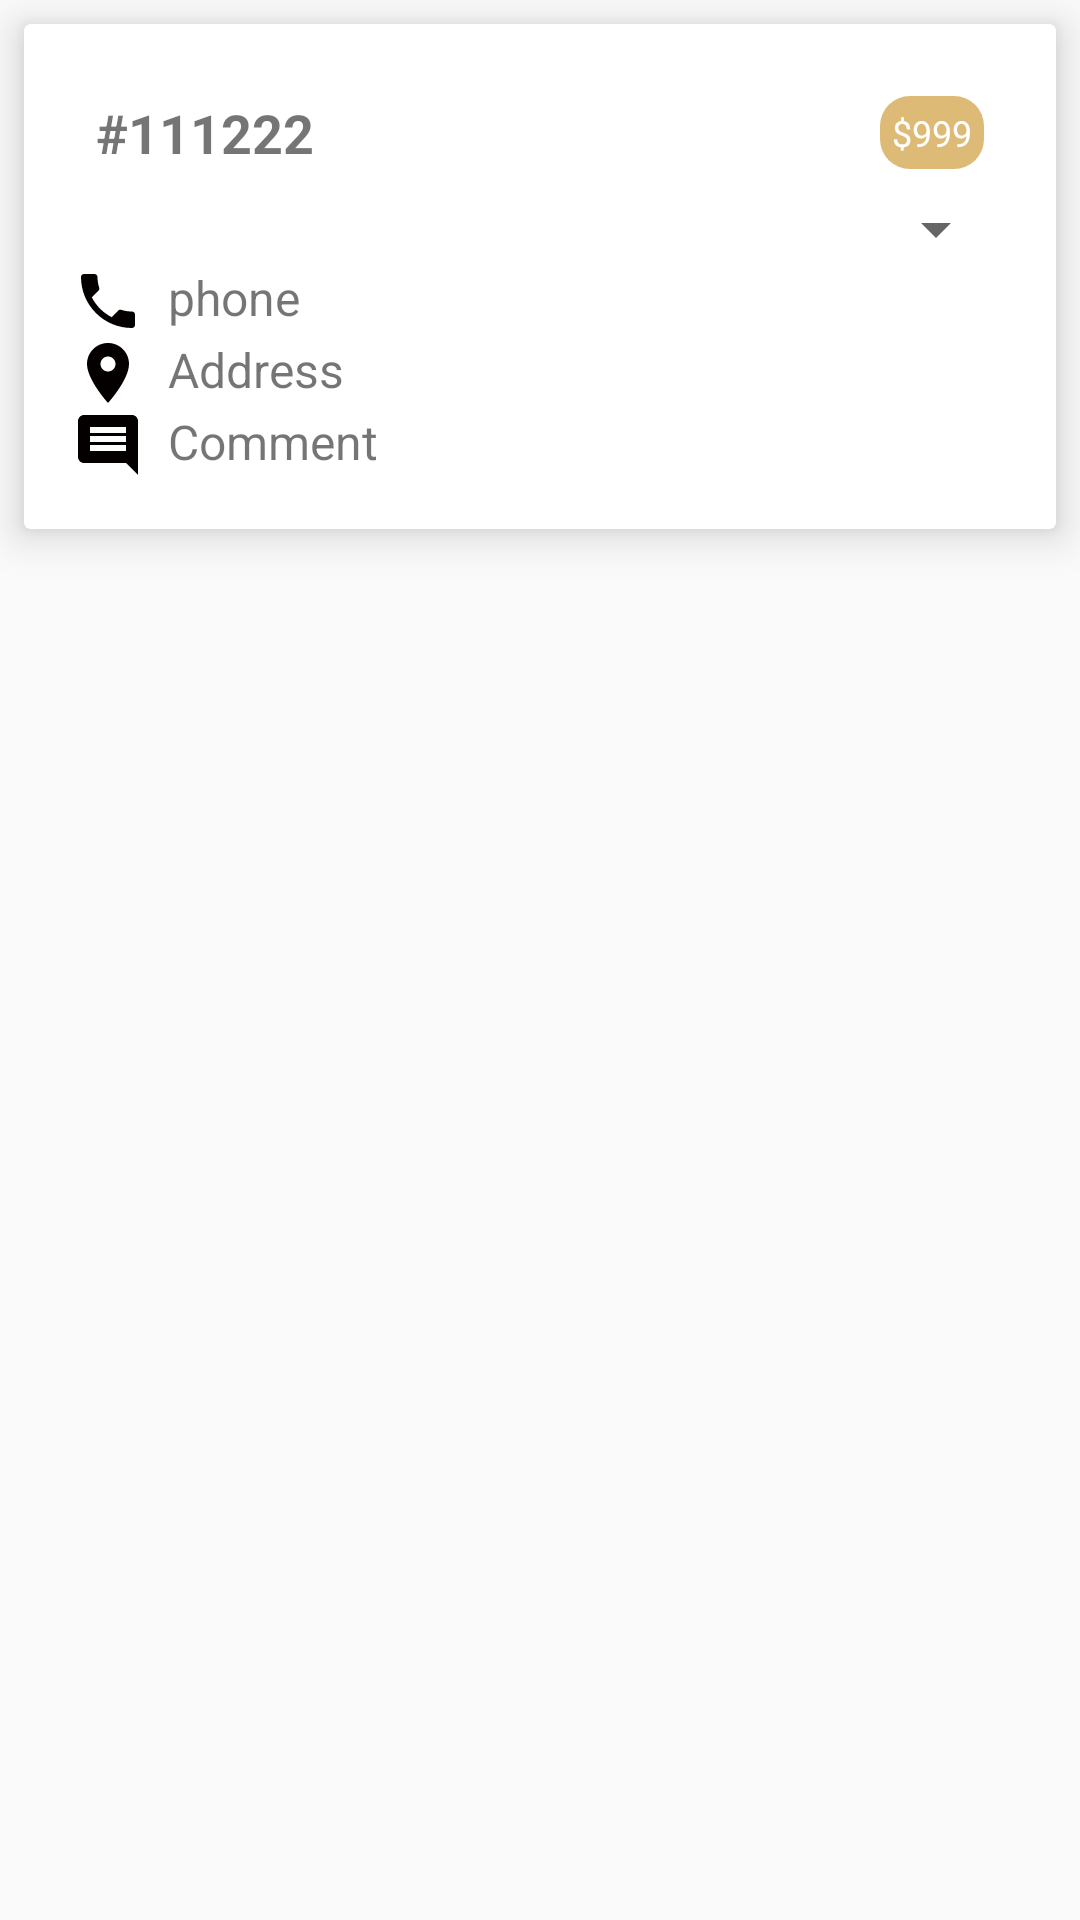

Named icons in this screenshot (1080×1920) and their centers, [x,y]:
location on: [108,373]
